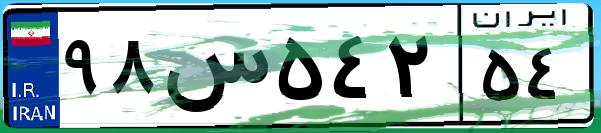2: (385, 28, 445, 110)
4: (330, 28, 385, 110), (525, 38, 570, 115)
5: (270, 28, 330, 110), (475, 38, 525, 113)
8: (110, 28, 158, 98)
9: (57, 26, 110, 100)
س: (158, 20, 270, 120)
